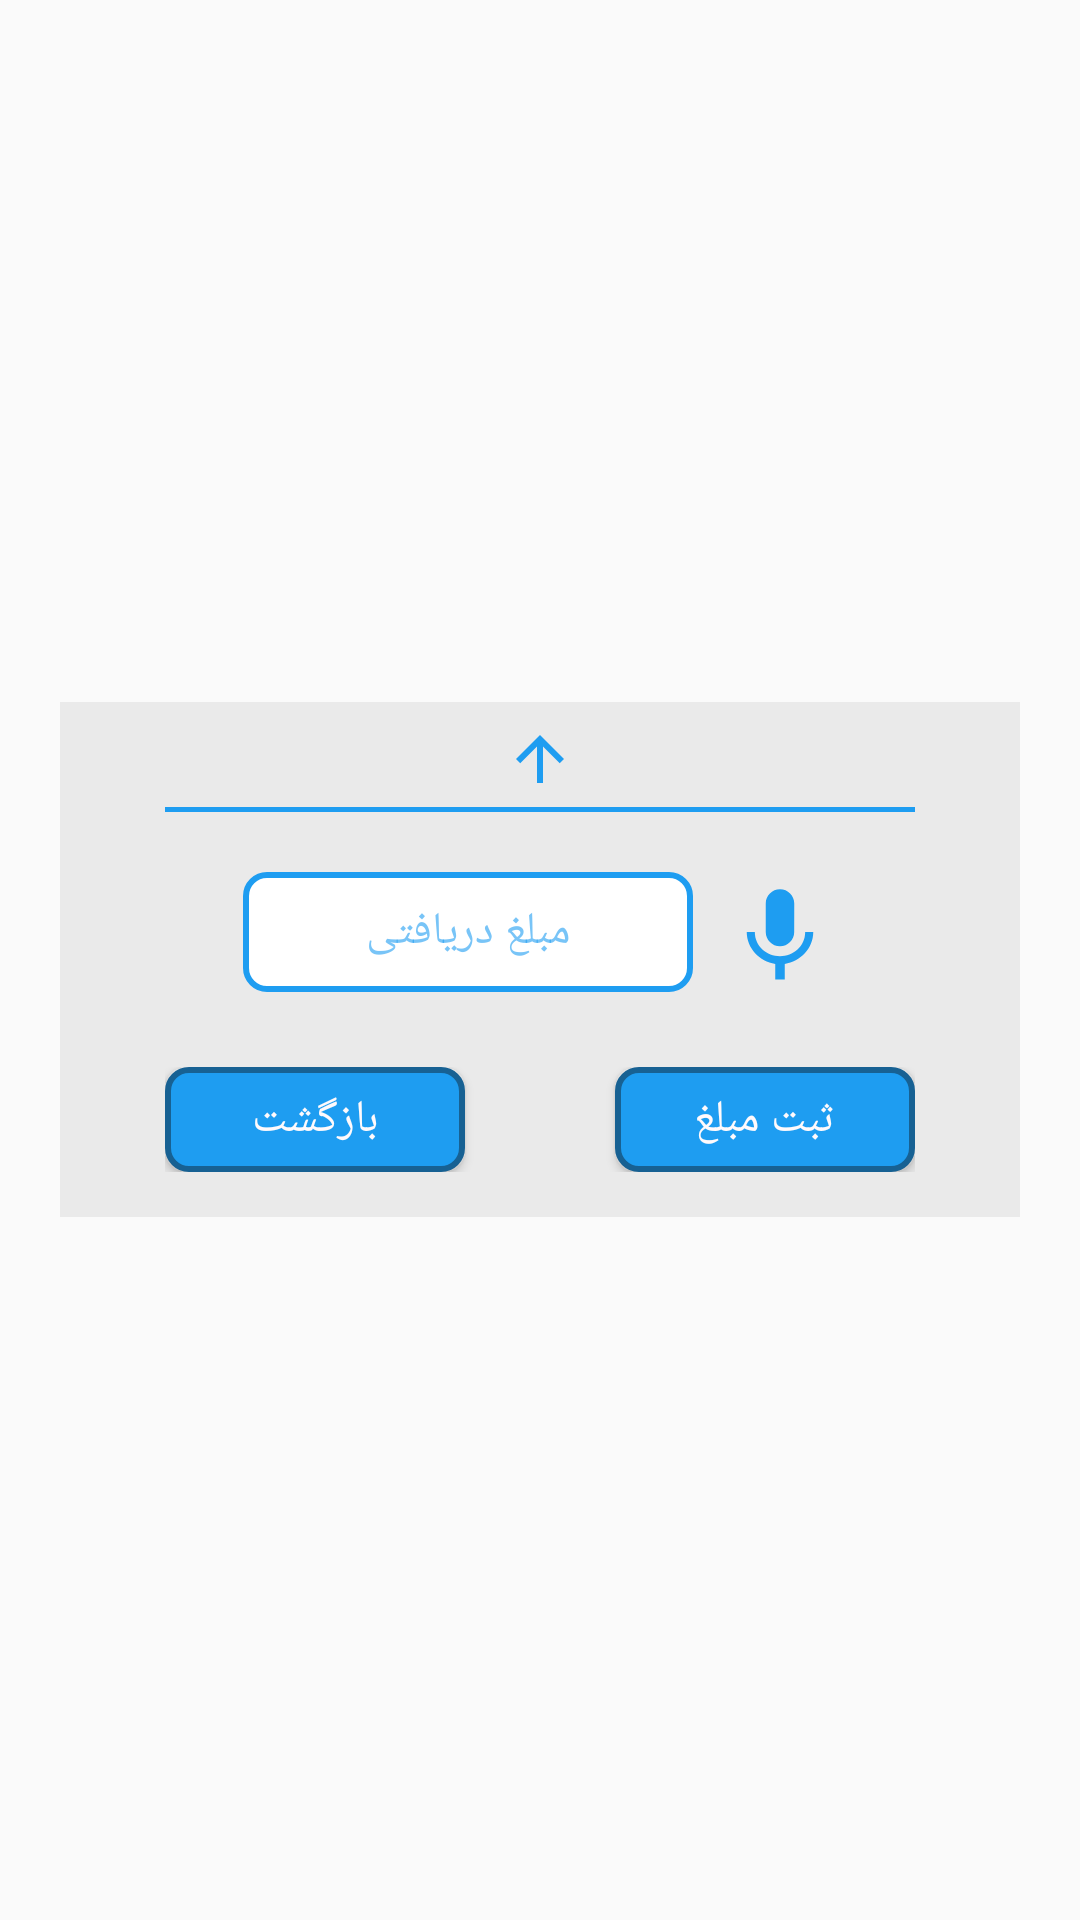

Screen size 1080x1920. Icon name, then its center in pixels as point (x, y):
voice: point (780, 934)
